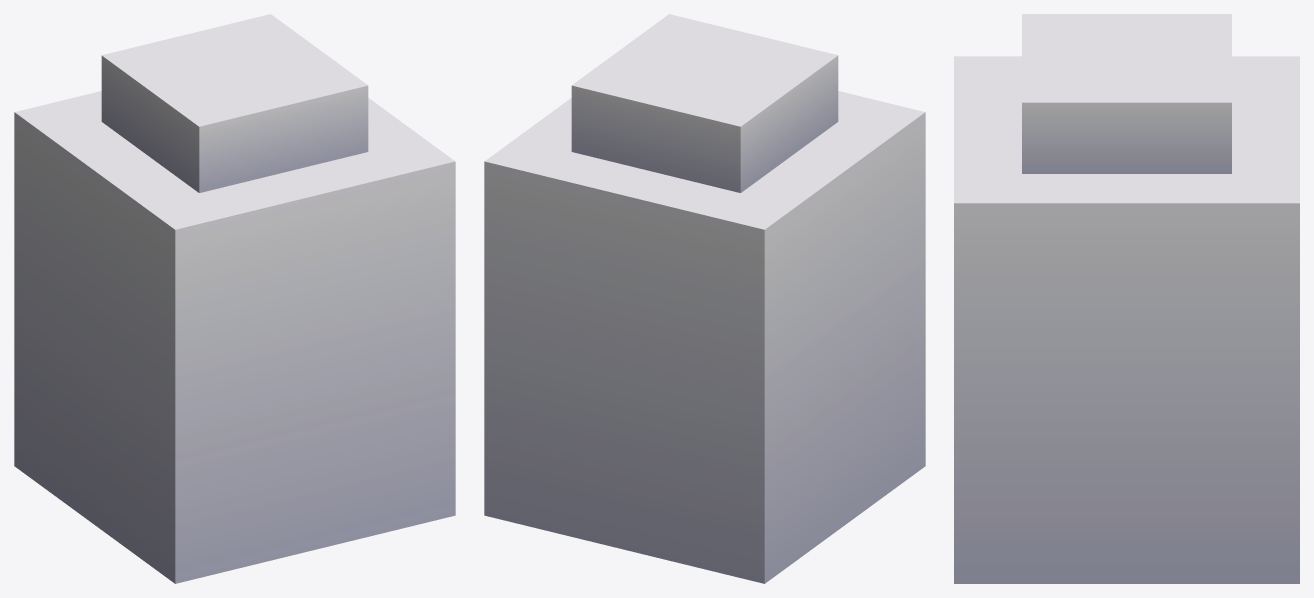
File: kenney-brick-square-lq-brick-1-x-1.glb
The picture shows the model from 3 angles, left to right: view 1: azimuth 30°, elevation 25°; view 2: azimuth 150°, elevation 25°; view 3: azimuth 270°, elevation 25°; orthographic projection. The views are drawn at different scales.
Parts seen in each view (by area): view 1: square-lq-brick-1x1; view 2: square-lq-brick-1x1; view 3: square-lq-brick-1x1.
Part boxes in pixels (bbox=[...]): square-lq-brick-1x1: bbox=[14, 14, 455, 583]; square-lq-brick-1x1: bbox=[484, 14, 925, 583]; square-lq-brick-1x1: bbox=[954, 14, 1299, 583].
Bounding box in the file's own units: 0.0795 × 0.114 × 0.079.
Materials: 1 (1 with a texture image).
